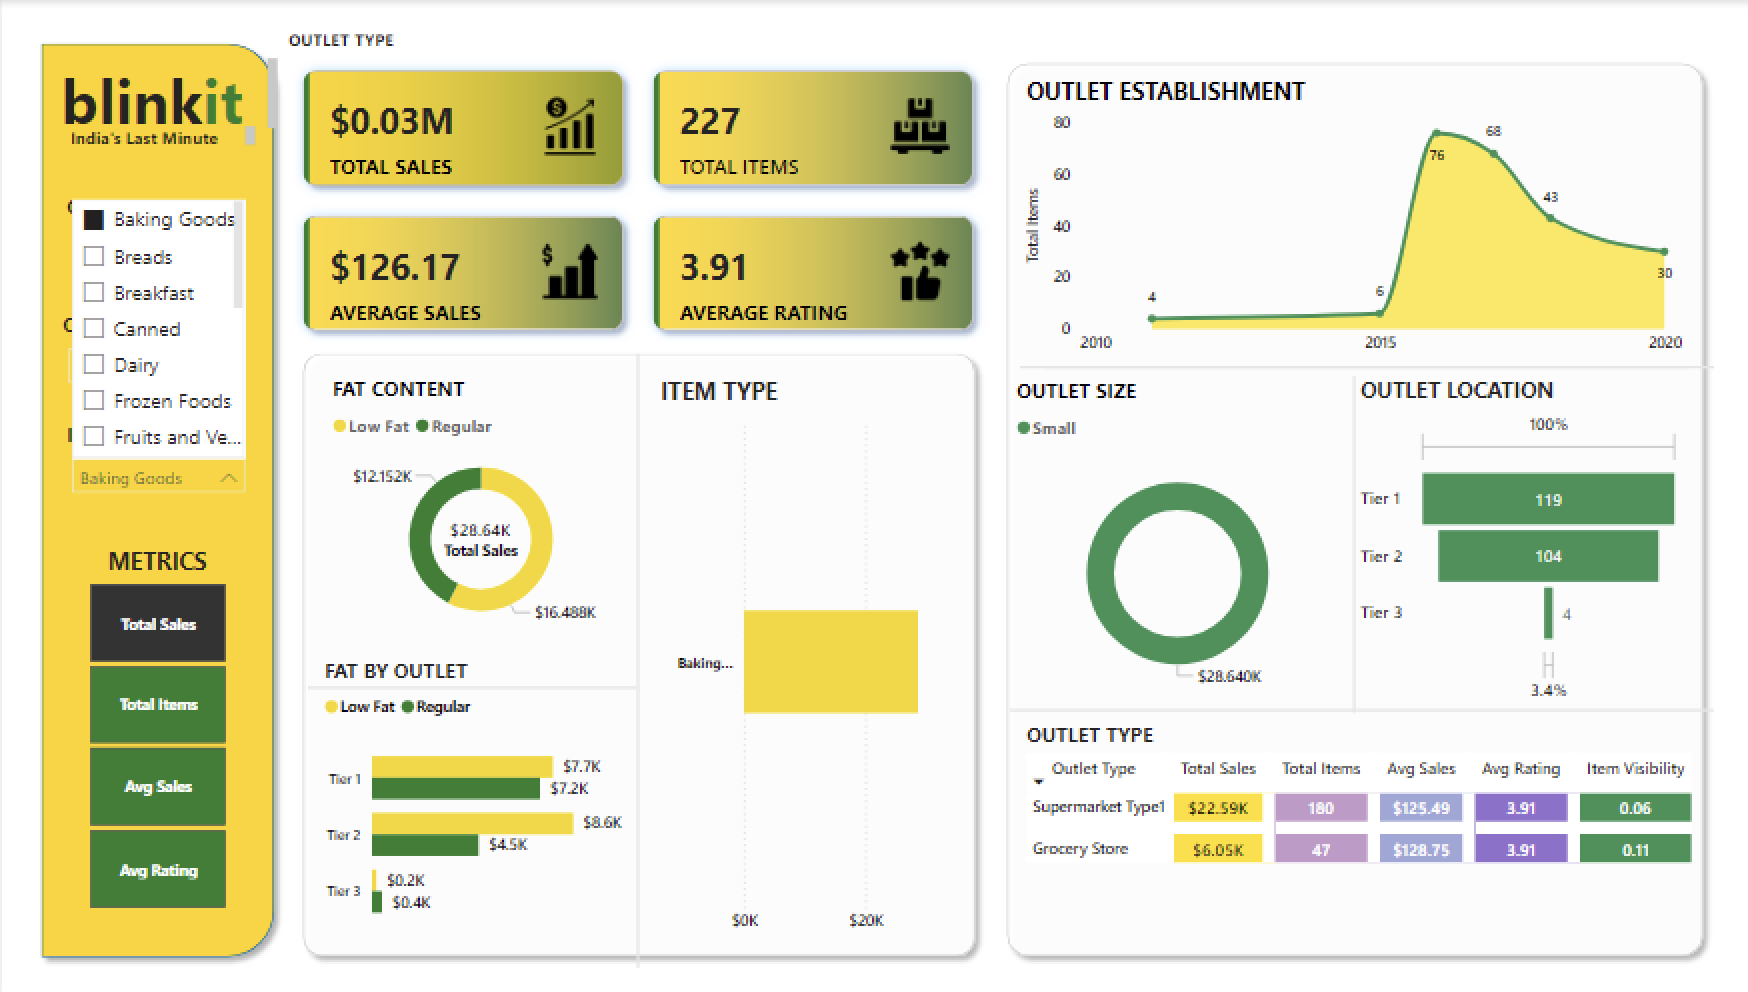

What the dashboard file says about the page in this screenshot:
{"tool":"powerbi","page":{"name":"Dashboard","canvas":[1400,800],"ordinal":0},"visuals":[{"type":"shape","box":[22.7,25.2,204.3,749.2],"z":0},{"type":"textbox","box":[22.4,41.6,203.2,70.4],"z":1000},{"type":"textbox","box":[49.6,96,158.4,30.4],"z":2000},{"type":"cardVisual","title":"OUTLET TYPE","fields":{"Data":["BlinkIT Grocery Data.Total Sales","BlinkIT Grocery Data.Total Items","BlinkIT Grocery Data.Avg Sales","BlinkIT Grocery Data.Avg Rating"]},"box":[224.5,22.8,570.7,260.6],"z":3000},{"type":"shape","box":[232.1,273.9,555.4,500.3],"z":4000},{"type":"donutChart","title":"FAT CONTENT","fields":{"Y":["BlinkIT Grocery Data.Avg Rating"],"Category":["BlinkIT Grocery Data.Item Fat Content"]},"box":[259.2,299.2,248,214.4],"z":5000},{"type":"slicer","title":"METRICS","fields":{"Values":["Metrics.Metrics"]},"box":[44.8,435.2,158.4,297.6],"z":6000},{"type":"cardVisual","fields":{"Data":["BlinkIT Grocery Data.Total Sales"]},"box":[324.8,382.4,116.8,99.2],"z":7000},{"type":"clusteredBarChart","title":"FAT BY OUTLET","fields":{"Y":["BlinkIT Grocery Data.Avg Rating"],"Series":["BlinkIT Grocery Data.Item Fat Content"],"Category":["BlinkIT Grocery Data.Outlet Location Type"]},"box":[252.8,524.8,249.6,230.4],"z":8000},{"type":"shape","box":[245.4,545.9,262.5,9.5],"z":9000},{"type":"shape","box":[502.4,283.2,12.8,491.2],"z":10000},{"type":"clusteredBarChart","title":"ITEM TYPE","fields":{"Y":["BlinkIT Grocery Data.Avg Rating"],"Category":["BlinkIT Grocery Data.Item Type"]},"box":[521.6,299.2,236.8,456],"z":11000},{"type":"shape","box":[795.1,41.8,574.5,732.3],"z":12000},{"type":"lineChart","title":"OUTLET ESTABLISHMENT","fields":{"Category":["BlinkIT Grocery Data.Outlet Establishment Year"],"Y":["BlinkIT Grocery Data.Total Items"]},"box":[814.1,59,534.5,234],"z":13000},{"type":"shape","box":[814.1,283.4,534.5,20.9],"z":14000},{"type":"donutChart","title":"OUTLET SIZE","fields":{"Y":["BlinkIT Grocery Data.Total Sales"],"Category":["BlinkIT Grocery Data.Outlet Size"]},"box":[806.5,300.5,268.2,266.3],"z":15000},{"type":"shape","box":[835.1,283.4,534.5,20.9],"z":16000},{"type":"shape","box":[1074.7,300.5,13.3,270.1],"z":17000},{"type":"funnel","title":"OUTLET LOCATION","fields":{"Y":["BlinkIT Grocery Data.Total Items"],"Category":["BlinkIT Grocery Data.Outlet Location Type"]},"box":[1082.3,298.6,266.3,268.2],"z":18000},{"type":"pivotTable","title":"OUTLET TYPE","fields":{"Rows":["BlinkIT Grocery Data.Outlet Type"],"Values":["BlinkIT Grocery Data.Total Sales","BlinkIT Grocery Data.Total Items","BlinkIT Grocery Data.Avg Sales","BlinkIT Grocery Data.Avg Rating","Avg(BlinkIT Grocery Data.Item Visibility)"]},"box":[814.1,570.7,568.8,203.5],"z":19000},{"type":"shape","box":[806.5,566.8,563,3.8],"z":20000},{"type":"slicer","title":"OUTLET LOCATION","fields":{"Values":["BlinkIT Grocery Data.Outlet Location Type"]},"box":[45.7,154.1,157.9,70.4],"z":20001},{"type":"slicer","title":"OUTLET SIZE","fields":{"Values":["BlinkIT Grocery Data.Outlet Size"]},"box":[43.8,247.3,157.9,70.4],"z":20002},{"type":"slicer","title":"ITEM TYPE","fields":{"Values":["BlinkIT Grocery Data.Item Type"]},"box":[45.7,336.7,157.9,70.4],"z":20003}]}

Visuals, with their boxes in screenshot pixels (x1, y1, x2, y2), scaled from the page's 1400x800 canvas onto the 1748x992 screenshot:
shape: 28, 31, 283, 960
textbox: 28, 52, 282, 139
textbox: 62, 119, 260, 157
"OUTLET TYPE" cardVisual: 280, 28, 993, 351
shape: 290, 340, 983, 960
"FAT CONTENT" donutChart: 324, 371, 633, 637
"METRICS" slicer: 56, 540, 254, 909
cardVisual - BlinkIT Grocery Data.Total Sales: 406, 474, 551, 597
"FAT BY OUTLET" clusteredBarChart: 316, 651, 627, 936
shape: 306, 677, 634, 689
shape: 627, 351, 643, 960
"ITEM TYPE" clusteredBarChart: 651, 371, 947, 936
shape: 993, 52, 1710, 960
"OUTLET ESTABLISHMENT" lineChart: 1016, 73, 1684, 363
shape: 1016, 351, 1684, 377
"OUTLET SIZE" donutChart: 1007, 373, 1342, 703
shape: 1043, 351, 1710, 377
shape: 1342, 373, 1358, 708
"OUTLET LOCATION" funnel: 1351, 370, 1684, 703
"OUTLET TYPE" pivotTable: 1016, 708, 1727, 960
shape: 1007, 703, 1710, 708
"OUTLET LOCATION" slicer: 57, 191, 254, 278
"OUTLET SIZE" slicer: 55, 307, 252, 394
"ITEM TYPE" slicer: 57, 418, 254, 505
